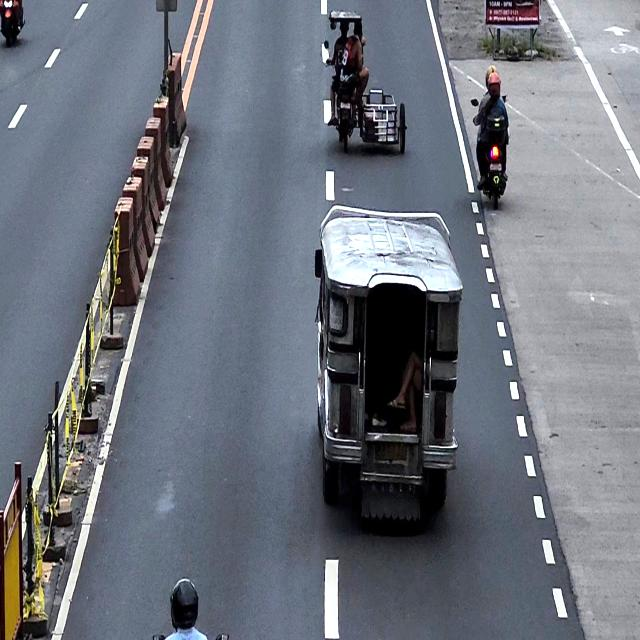Jeep: (315, 204, 466, 528)
License-Plate: (374, 439, 408, 462), (340, 100, 351, 111), (490, 162, 502, 172)
Motorcycle: (470, 94, 511, 209)
Tricycle: (323, 7, 409, 156)
